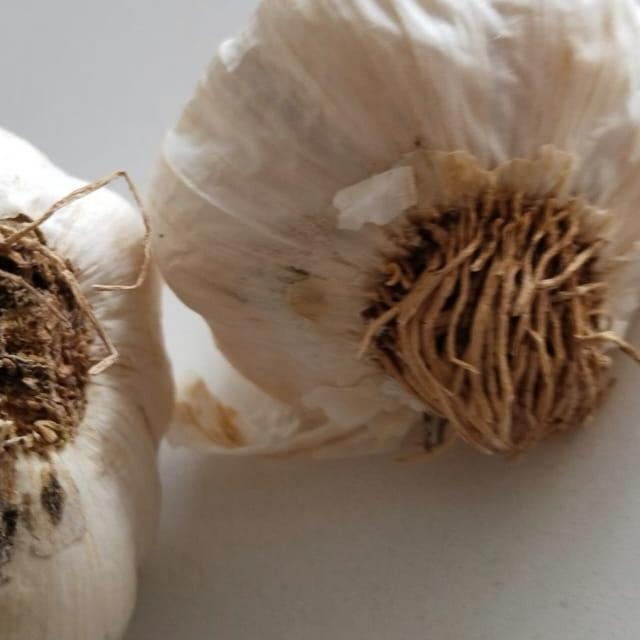garlic: (138, 0, 640, 478), (0, 70, 191, 640)
